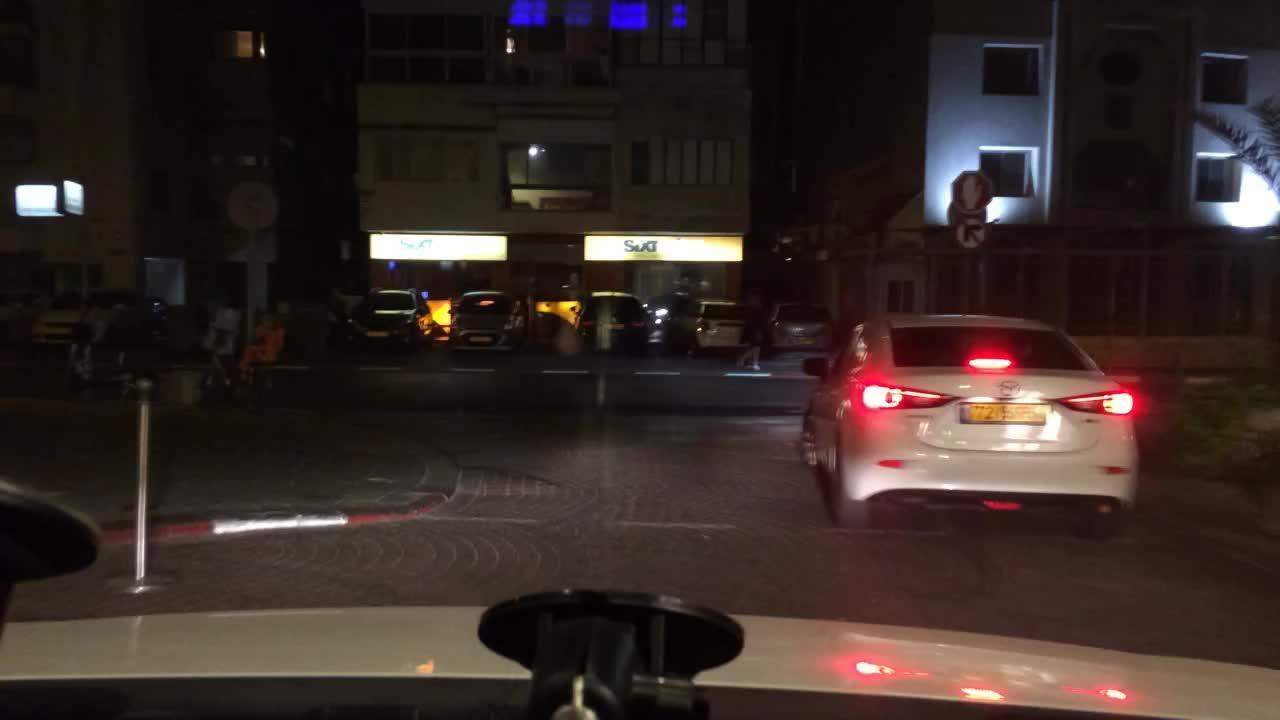Mazda: (994, 371, 1032, 399)
